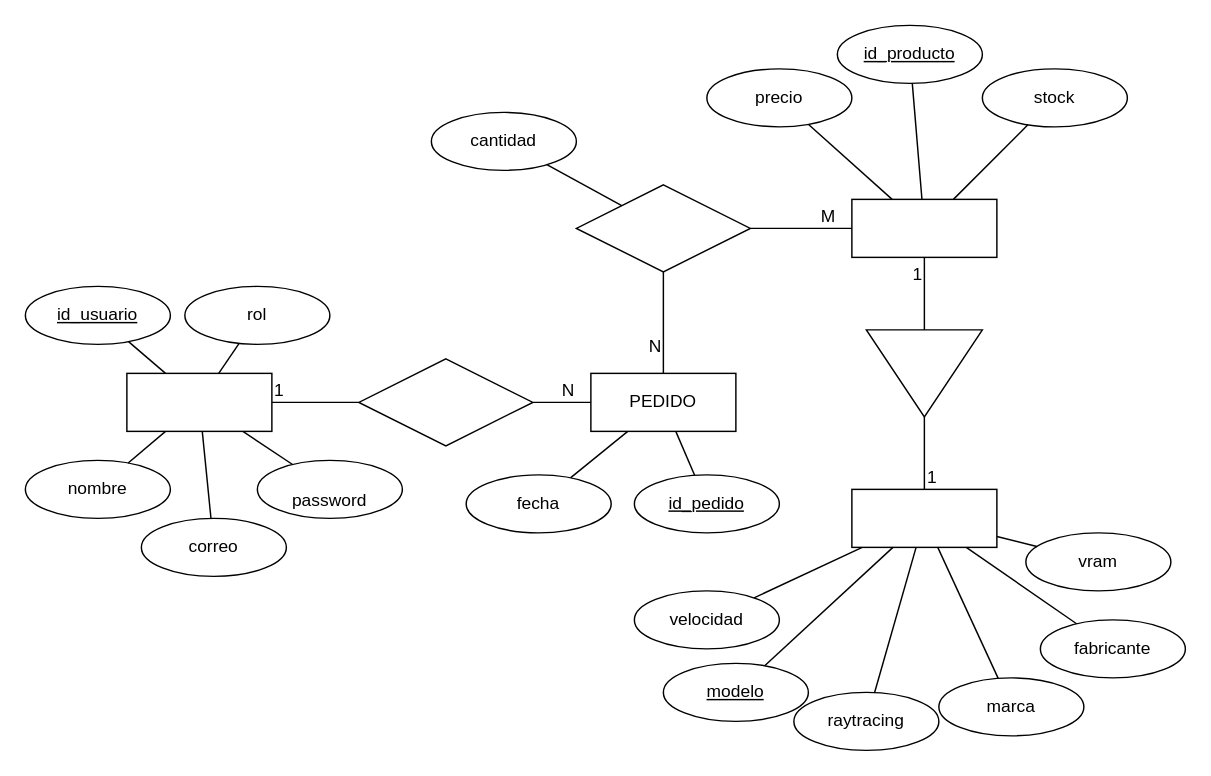
Image size: 1211x776. Some labels were removed from this diagram. Each missing label, with the box of its shape:
Compuesto por: (575, 183, 750, 272)
GPU: (850, 488, 997, 547)
PRODUCTO: (850, 198, 997, 257)
Realiza: (357, 357, 533, 446)
USUARIO: (125, 372, 272, 431)
